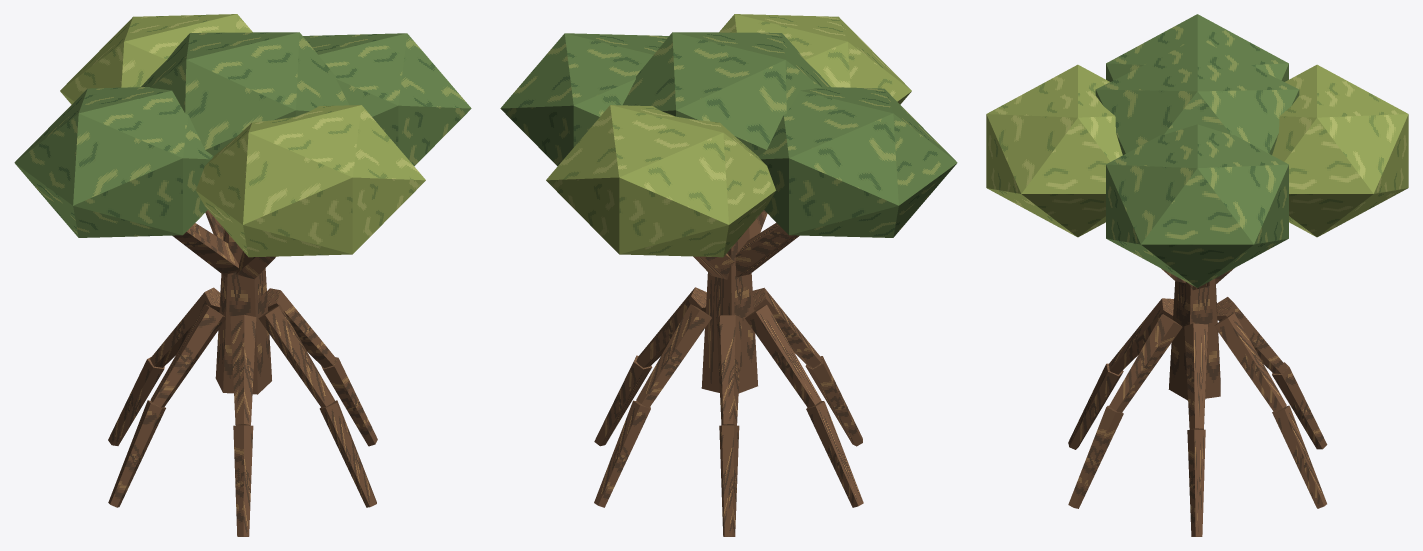
The model's file is arvore-mangue-v02.gltf.
3 views of the same model, side by side, from view 1: azimuth 30°, elevation 25°; view 2: azimuth 150°, elevation 25°; view 3: azimuth 270°, elevation 25° (orthographic). The views are drawn at different scales.
Visible parts, largest first — view 1: tronco-galhos-copa; view 2: tronco-galhos-copa; view 3: tronco-galhos-copa.
Boxes of the visible parts, x1=… form: tronco-galhos-copa: x1=14, y1=14, x2=471, y2=536; tronco-galhos-copa: x1=500, y1=14, x2=957, y2=536; tronco-galhos-copa: x1=986, y1=14, x2=1408, y2=536.
Bounding box in the file's own units: 3.7 × 3.82 × 3.53.
1 material, 1 textured.
